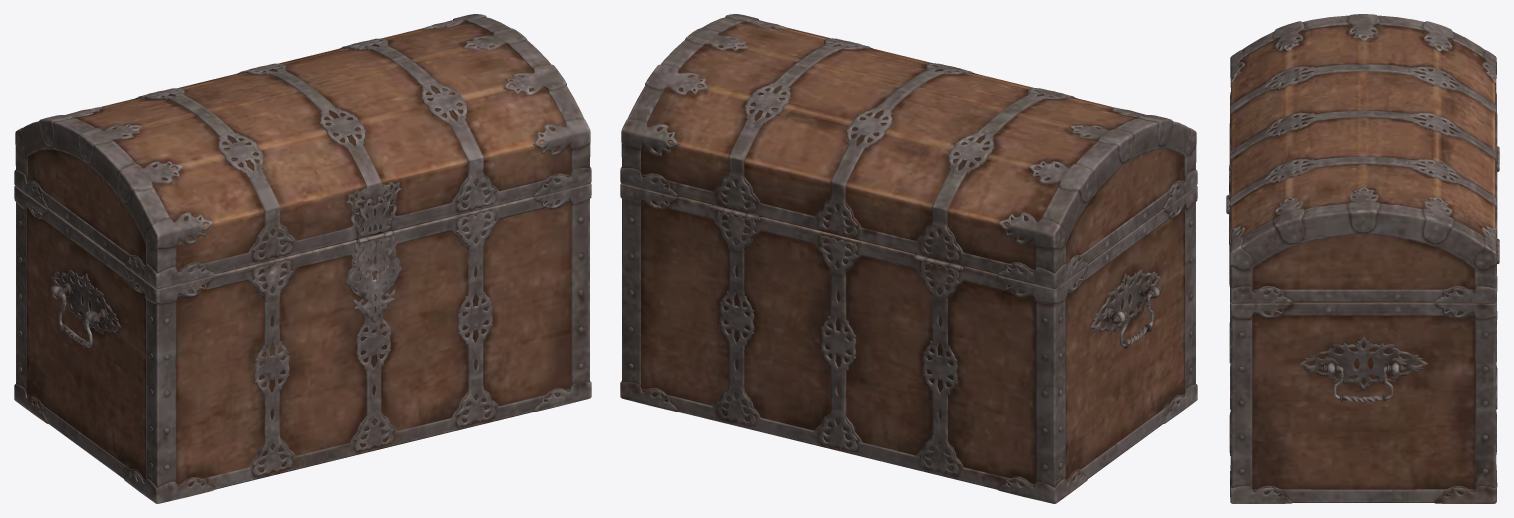
File: design-treasure-chest.glb
3 renders of one model, left to right at view 1: azimuth 30°, elevation 25°; view 2: azimuth 150°, elevation 25°; view 3: azimuth 270°, elevation 25°, orthographic. The views are drawn at different scales.
Visible parts, largest first — view 1: treasure_chest_bottom; view 2: treasure_chest_bottom; view 3: treasure_chest_bottom.
Part boxes in pixels (left/top/right/bottom): treasure_chest_bottom: left=14, top=14, right=591, bottom=503; treasure_chest_bottom: left=620, top=14, right=1197, bottom=503; treasure_chest_bottom: left=1226, top=14, right=1499, bottom=503.
Size of the model in its own units: 0.959 by 0.619 by 0.5229.
1 material, 1 textured.
